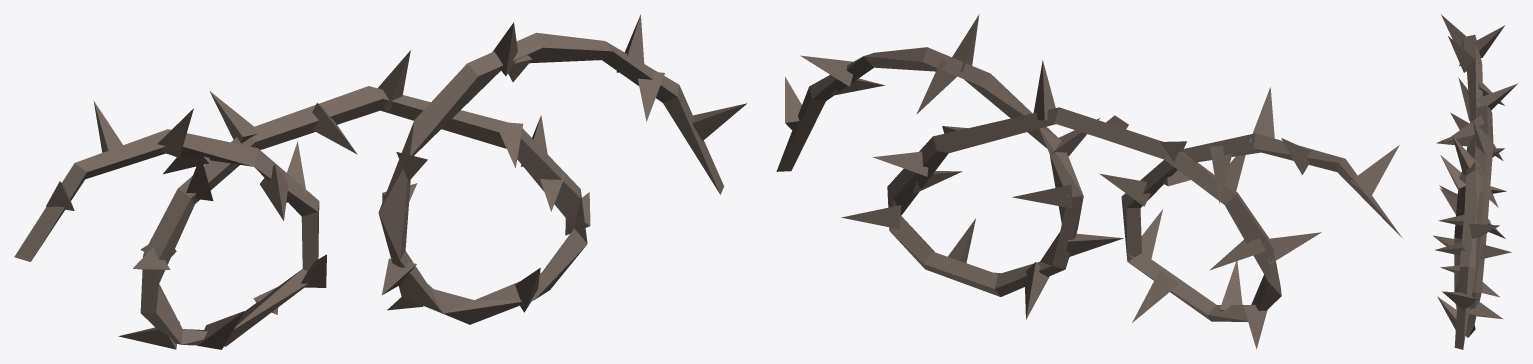
File: LP_PostApoc_BarbedWire.fbx
3 views of the same model, side by side, from view 1: azimuth 30°, elevation 25°; view 2: azimuth 150°, elevation 25°; view 3: azimuth 270°, elevation 25° (orthographic). The views are drawn at different scales.
Parts seen in each view (by area): view 1: BarbedWire; view 2: BarbedWire; view 3: BarbedWire.
Boxes of the visible parts, left/top/right/bottom form: BarbedWire: left=14, top=14, right=746, bottom=349; BarbedWire: left=776, top=14, right=1401, bottom=349; BarbedWire: left=1433, top=14, right=1517, bottom=349.
Size of the model in its own units: 281 by 113 by 45.22.
